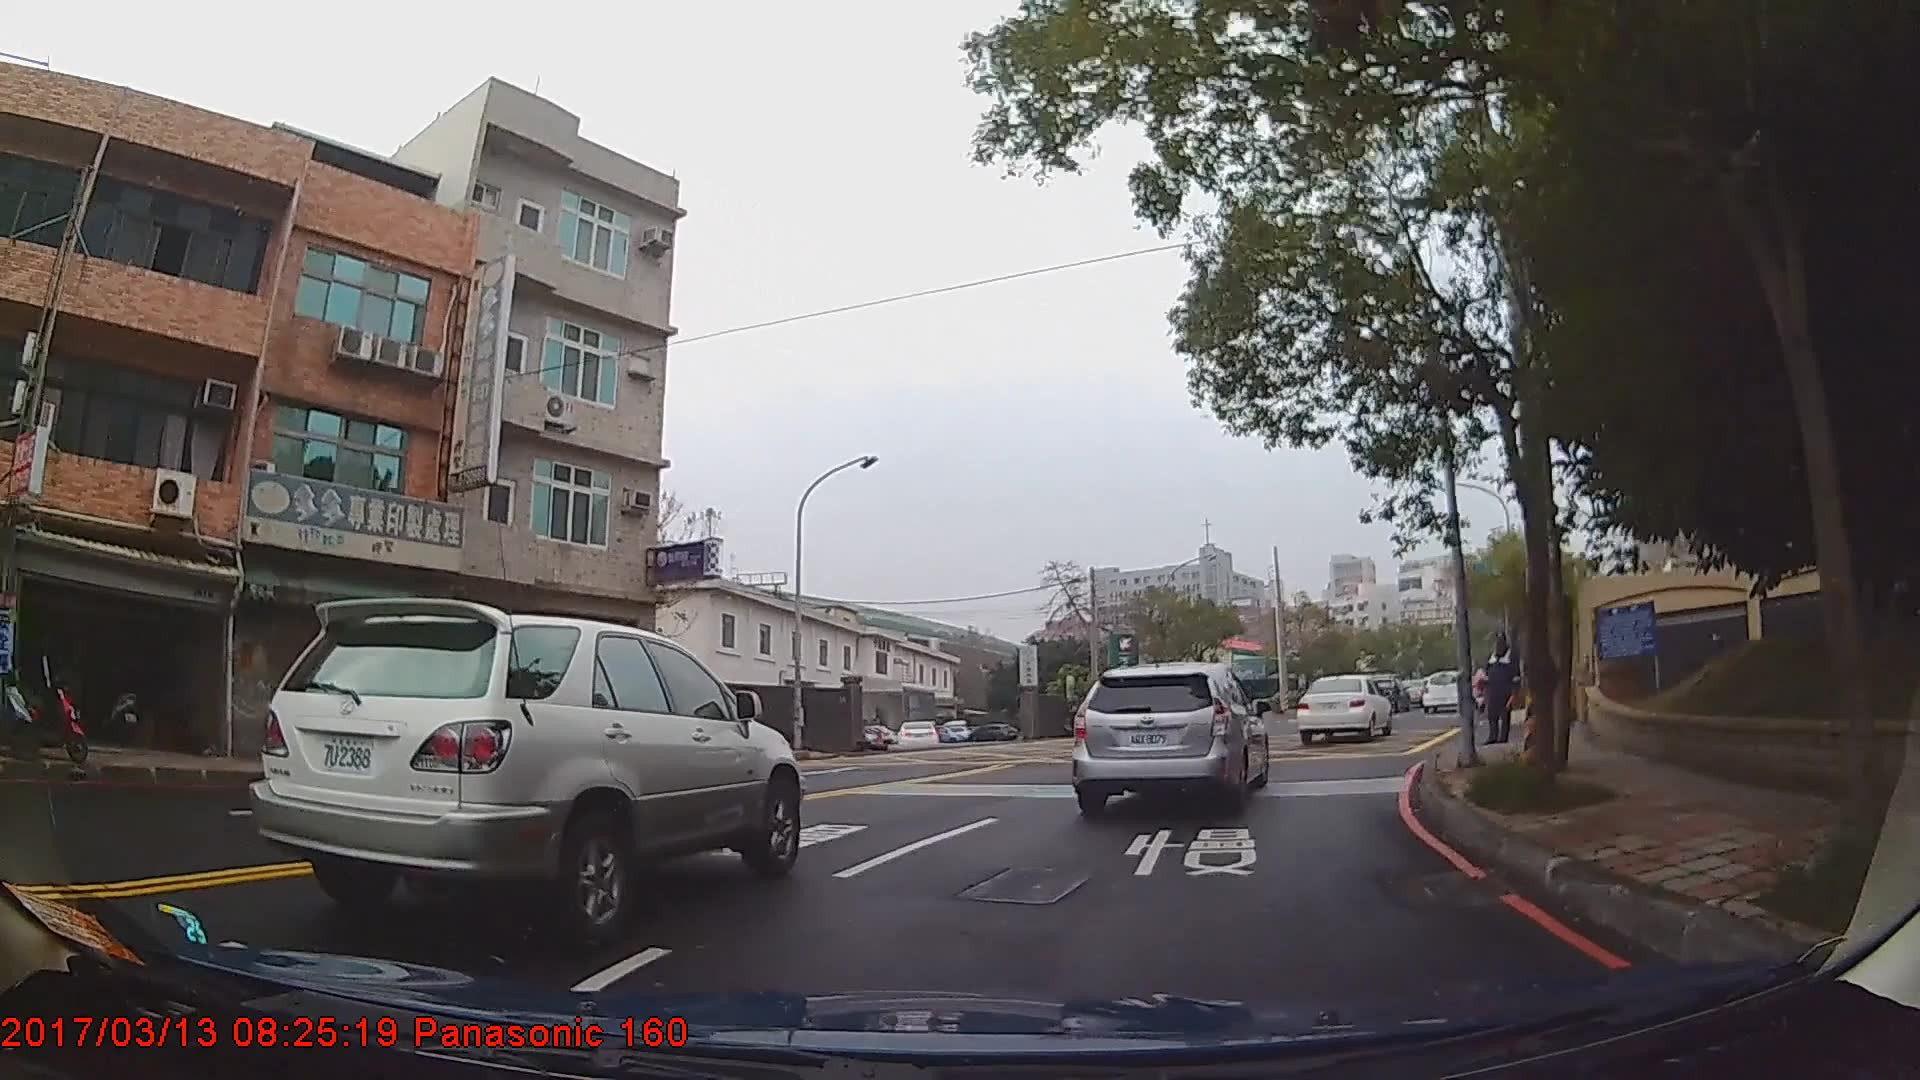pedestrian: (1484, 630, 1525, 744)
vehicle: (251, 594, 803, 946), (1066, 658, 1267, 810), (1294, 674, 1394, 745), (1418, 664, 1467, 711), (894, 719, 940, 748), (960, 718, 1017, 739)
